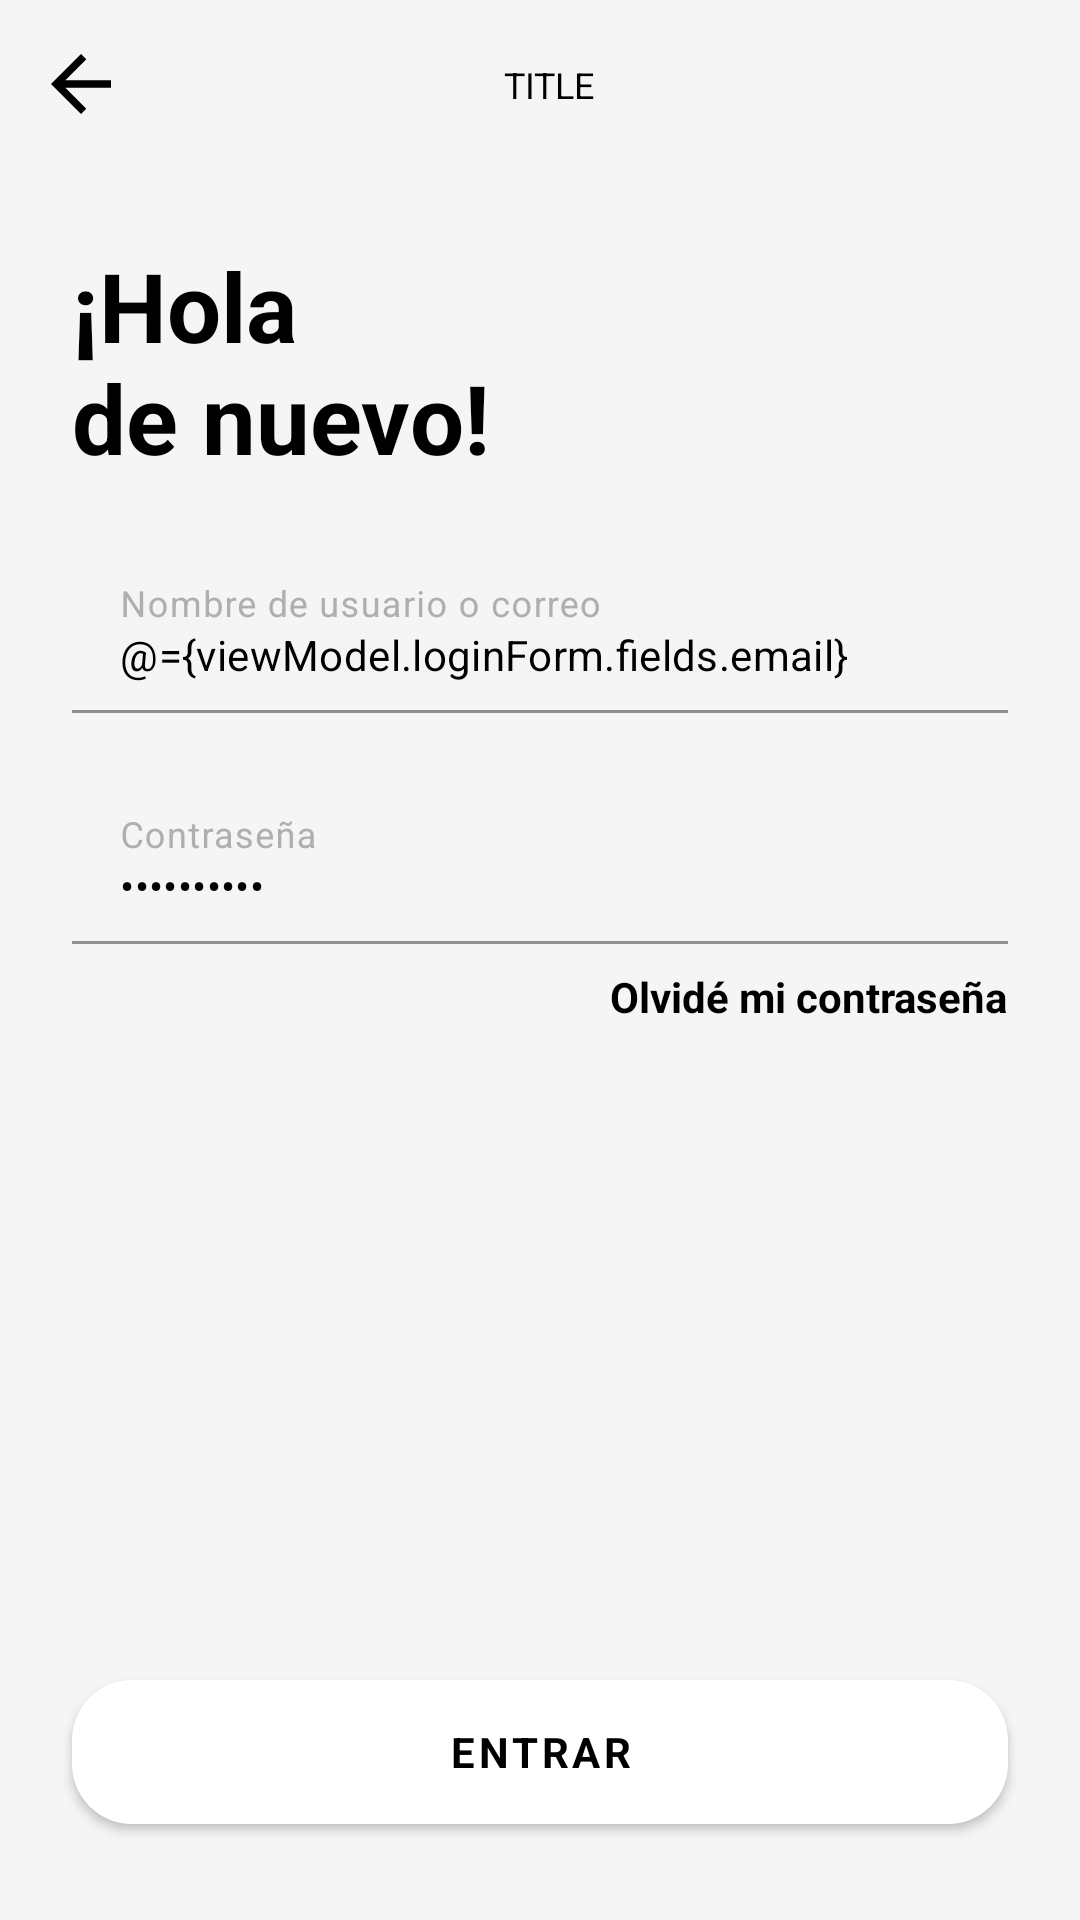

Point at icon controls on the screen. Image size 1080px x 1920px, points as point (x, y).
arrow back: point (81, 84)
